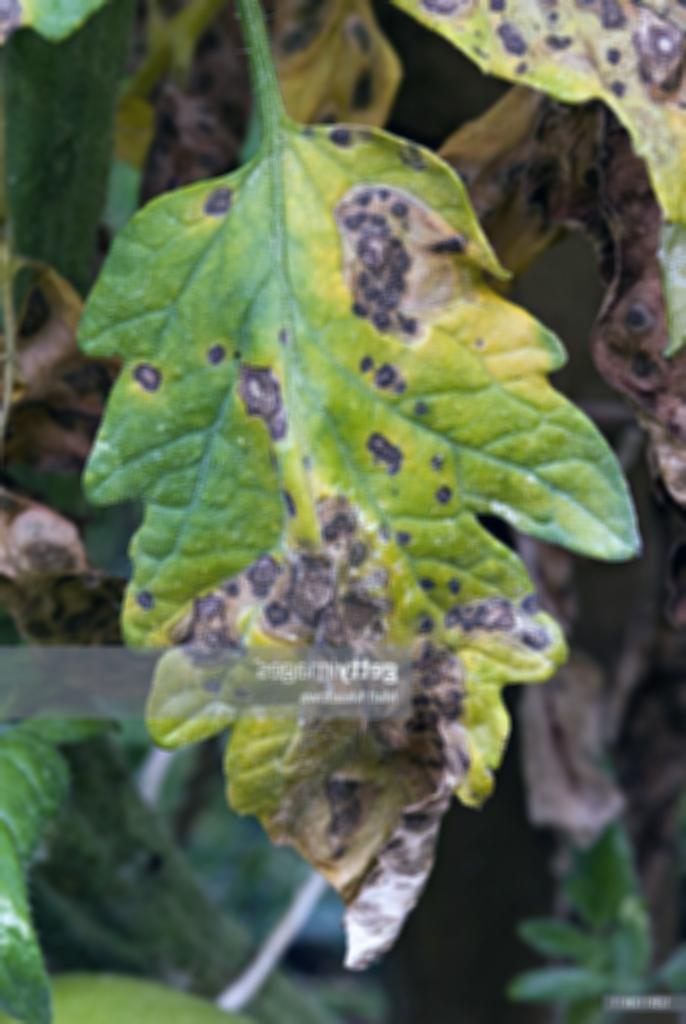Tomato Septoria leaf spot: (78, 106, 673, 953)
